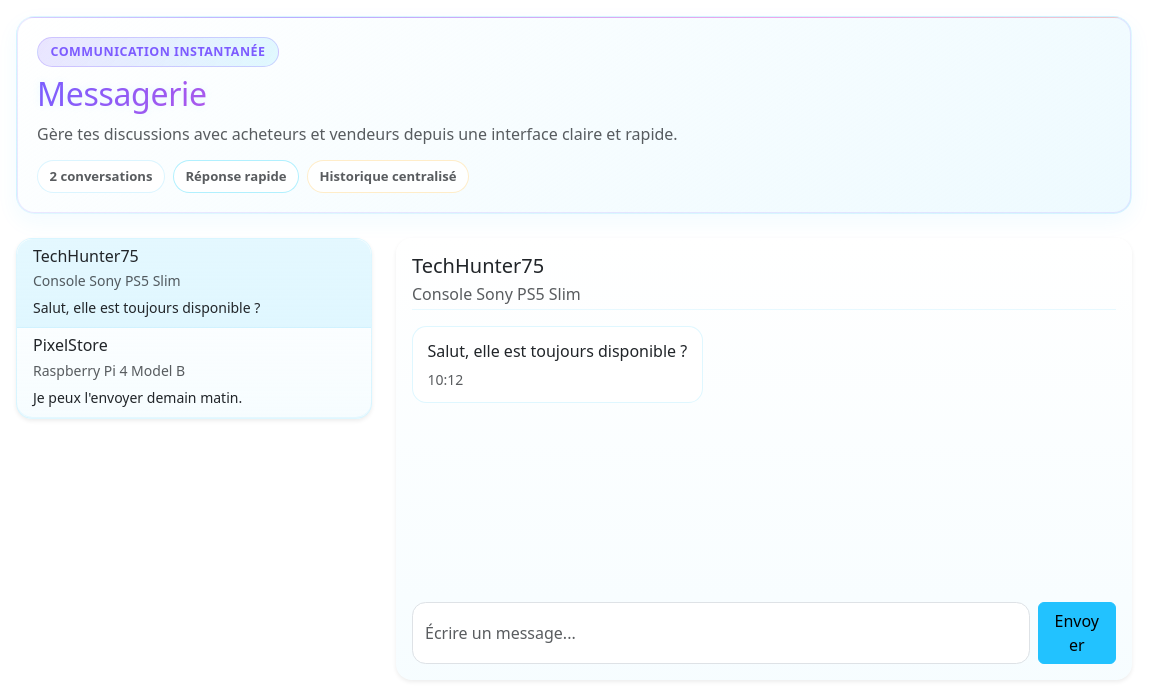
Test case: Messages › switches thread when selecting another conversation
Check: the 2nd text "Console Sony PS5 Slim" is shown, box x1=412 y1=283 x2=581 y2=305
Click the button "PixelStore": (70, 345) x1=17 y1=328 x2=371 y2=418
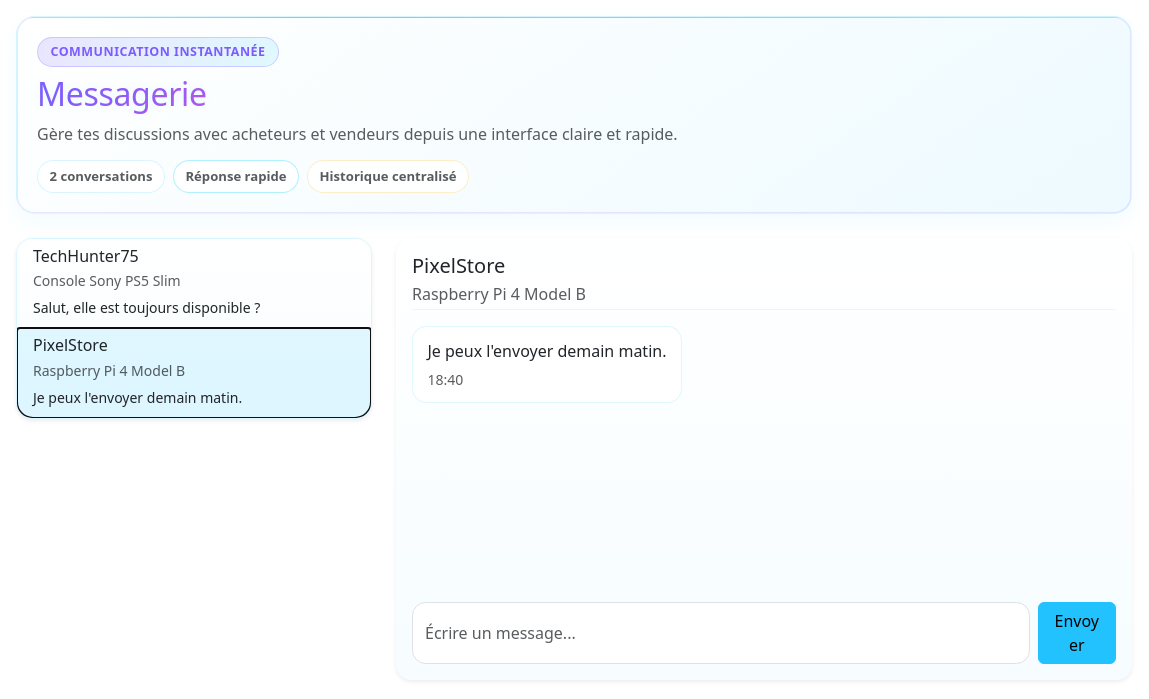
Check: the 1st text "Je peux l'envoyer demain matin." is shown, box x1=427 y1=339 x2=666 y2=363
